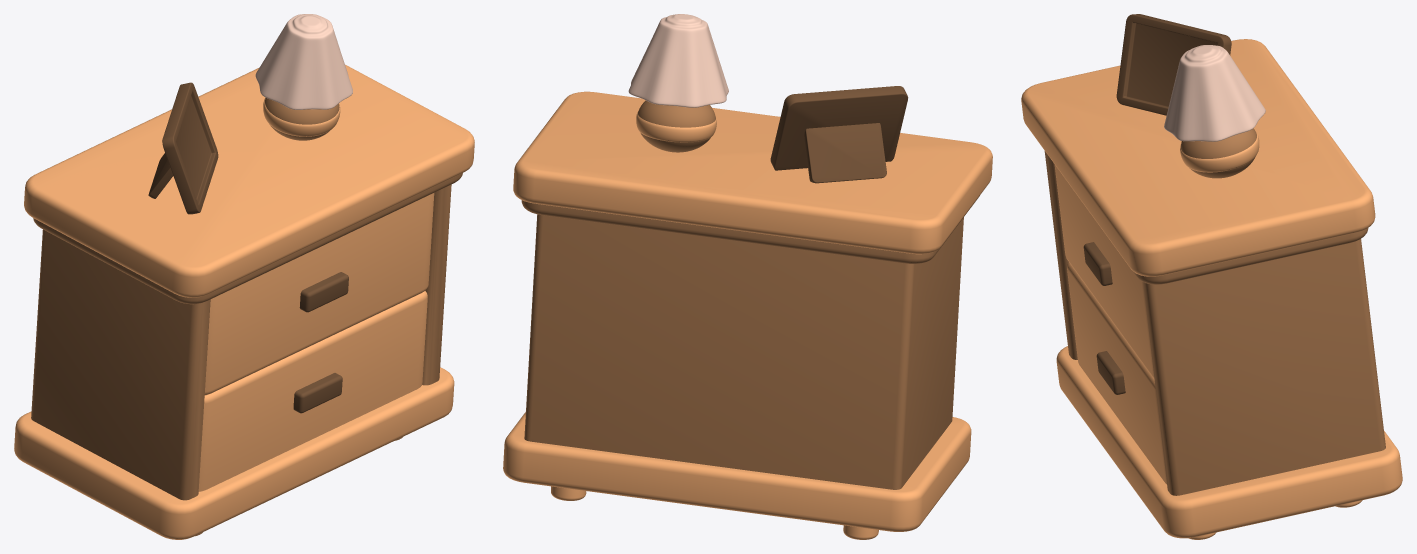
The model's file is Bedside Table.fbx.
3 renders of one model, left to right at view 1: azimuth 30°, elevation 25°; view 2: azimuth 150°, elevation 25°; view 3: azimuth 270°, elevation 25°, orthographic. The views are drawn at different scales.
Parts seen in each view (by area): view 1: Cube.092, Cube.085, Cube.088, Cube.089, Cube.087, Cylinder.018, Cube.093, Cube.086, Sphere.002, Cube.091, Cube.090, Sphere.003 (+1 smaller); view 2: Cube.085, Cube.092, Cube.087, Cylinder.018, Cube.093, Cube.086, Cube.094, Sphere.002, Sphere.003; view 3: Cube.085, Cube.092, Cube.087, Cube.089, Cylinder.018, Cube.088, Cube.093, Cube.086, Sphere.002, Sphere.003, Cube.090, Cube.091.
Part boxes in pixels (left/top/right/bottom): Cube.092: left=24, top=64, right=474, bottom=297; Cube.085: left=31, top=184, right=451, bottom=500; Cube.088: left=204, top=193, right=434, bottom=395; Cube.089: left=198, top=291, right=427, bottom=491; Cube.087: left=14, top=367, right=454, bottom=539; Cylinder.018: left=255, top=14, right=352, bottom=109; Cube.093: left=162, top=82, right=218, bottom=214; Cube.086: left=33, top=173, right=462, bottom=304; Sphere.002: left=265, top=98, right=339, bottom=140; Cube.091: left=293, top=373, right=342, bottom=413; Cube.090: left=299, top=272, right=348, bottom=312; Sphere.003: left=263, top=98, right=340, bottom=136; Cube.085: left=524, top=214, right=963, bottom=489; Cube.092: left=513, top=91, right=992, bottom=254; Cube.087: left=503, top=412, right=971, bottom=531; Cylinder.018: left=628, top=14, right=728, bottom=107; Cube.093: left=770, top=86, right=908, bottom=170; Cube.086: left=521, top=196, right=979, bottom=263; Cube.094: left=804, top=123, right=886, bottom=183; Sphere.002: left=638, top=100, right=715, bottom=152; Sphere.003: left=636, top=111, right=716, bottom=142; Cube.085: left=1044, top=151, right=1385, bottom=495; Cube.092: left=1021, top=39, right=1375, bottom=276; Cube.087: left=1056, top=346, right=1402, bottom=538; Cube.089: left=1067, top=261, right=1166, bottom=484; Cylinder.018: left=1164, top=45, right=1265, bottom=141; Cube.088: left=1054, top=165, right=1154, bottom=378; Cube.093: left=1116, top=14, right=1231, bottom=115; Cube.086: left=1132, top=228, right=1368, bottom=284; Sphere.002: left=1181, top=128, right=1256, bottom=178; Sphere.003: left=1180, top=132, right=1259, bottom=172; Cube.090: left=1083, top=242, right=1112, bottom=285; Cube.091: left=1096, top=351, right=1125, bottom=394.
Bounding box in the file's own units: 521 × 549 × 416.
